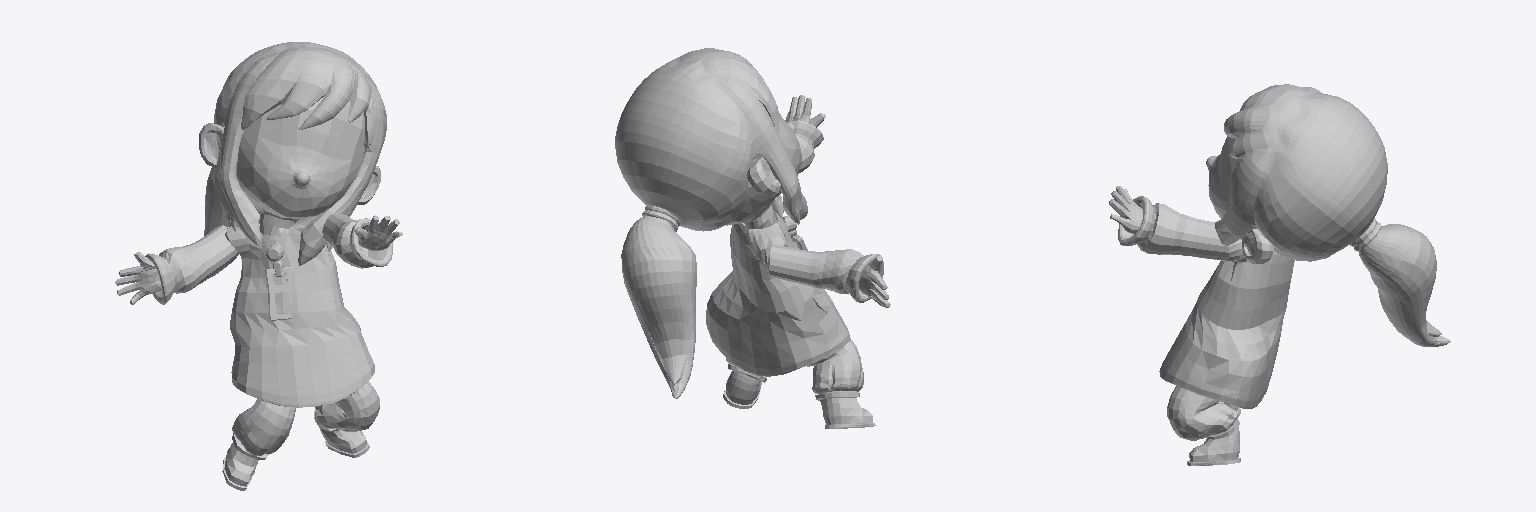
3 views of the same model, side by side, from view 1: azimuth 30°, elevation 25°; view 2: azimuth 150°, elevation 25°; view 3: azimuth 270°, elevation 25° (orthographic).
Parts seen in each view (by area): view 1: hatkidbody.png, hatkidhair.png, hatkidbody, hatkidhair; view 2: hatkidhair.png, hatkidbody.png, hatkidhair, hatkidbody; view 3: hatkidhair.png, hatkidbody.png, hatkidhair, hatkidbody.
Part boxes in pixels (left/top/right/bottom): hatkidbody.png: left=115, top=97, right=402, bottom=407; hatkidhair.png: left=214, top=42, right=386, bottom=265; hatkidbody: left=222, top=381, right=379, bottom=490; hatkidhair: left=204, top=167, right=259, bottom=277; hatkidhair.png: left=615, top=48, right=807, bottom=231; hatkidbody.png: left=706, top=95, right=890, bottom=376; hatkidhair: left=621, top=206, right=696, bottom=398; hatkidbody: left=723, top=340, right=875, bottom=428; hatkidhair.png: left=1215, top=84, right=1387, bottom=261; hatkidbody.png: left=1109, top=136, right=1294, bottom=408; hatkidhair: left=1350, top=218, right=1450, bottom=346; hatkidbody: left=1167, top=386, right=1240, bottom=465.
Size of the model in its own units: 48.87 by 67.96 by 55.61.